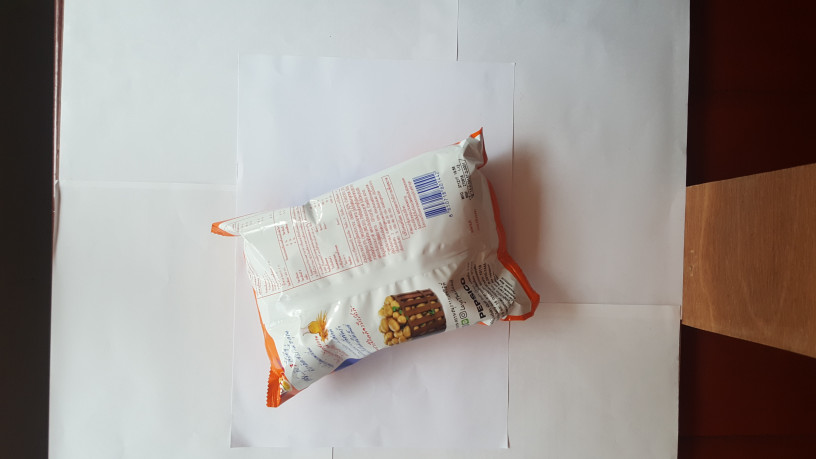lays-bbq: (199, 123, 537, 424)
